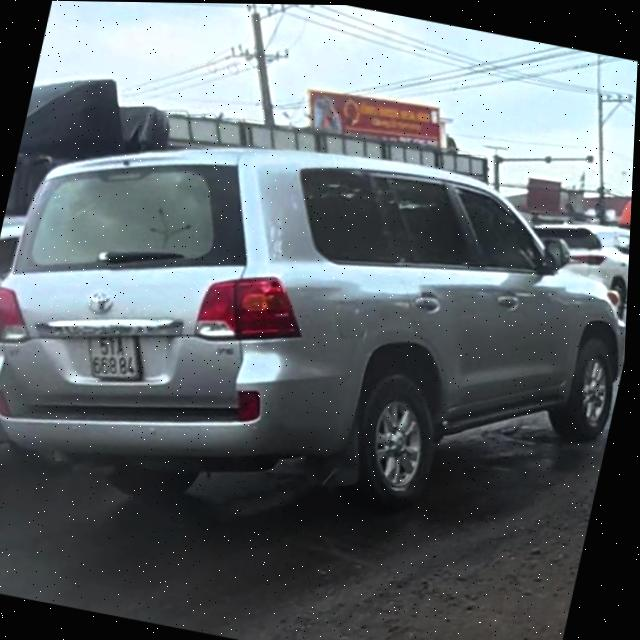car: (0, 94, 636, 586)
plate: (73, 323, 157, 391)
